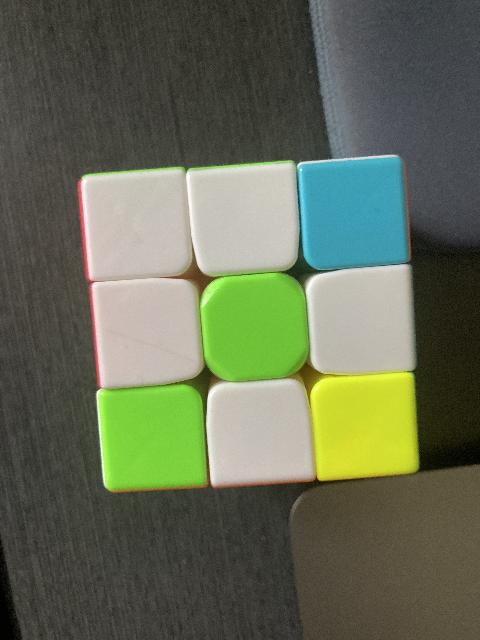Blue: (301, 164, 405, 262)
Green: (100, 394, 200, 488), (206, 282, 304, 374)
White: (209, 384, 311, 486), (195, 170, 297, 268), (312, 273, 412, 371), (97, 284, 194, 381), (84, 183, 186, 275)
Yellow: (317, 383, 416, 473)
